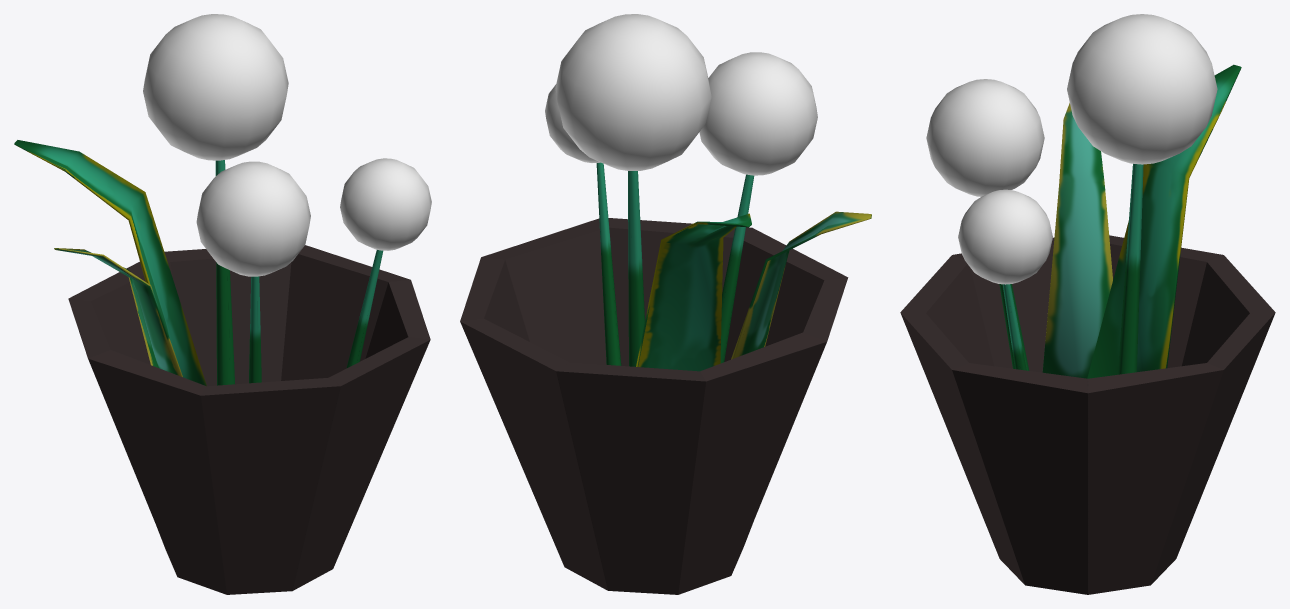
File: flowerpot.fbx
3 views of the same model, side by side, from view 1: azimuth 30°, elevation 25°; view 2: azimuth 150°, elevation 25°; view 3: azimuth 270°, elevation 25° (orthographic). The views are drawn at different scales.
Visible parts, largest first — view 1: Cube, Sphere.002, Sphere.003, Cube.003, Sphere.001, Cube.002, Cylinder, Cylinder.001, Cylinder.002; view 2: Cube, Sphere.002, Sphere.003, Cube.003, Cube.002, Cylinder, Cylinder.002, Cylinder.001, Sphere.001; view 3: Cube, Sphere.002, Cube.002, Cube.003, Sphere.003, Sphere.001, Cylinder, Cylinder.002, Cylinder.001.
Part boxes in pixels (x1,y1,x2,y2): Cube: (68,245,430,594); Sphere.002: (143,14,288,160); Sphere.003: (196,161,310,276); Cube.003: (14,140,206,386); Sphere.001: (340,158,431,250); Cube.002: (54,248,182,376); Cylinder: (215,160,234,385); Cylinder.001: (249,276,261,383); Cylinder.002: (346,250,383,368); Cube: (460,218,848,594); Sphere.002: (555,14,711,170); Sphere.003: (699,52,817,175); Cube.003: (636,213,751,371); Cube.002: (731,211,871,359); Cylinder: (628,171,644,366); Cylinder.002: (596,162,621,365); Cylinder.001: (720,174,754,363); Sphere.001: (545,84,600,162); Cube: (900,235,1275,594); Sphere.002: (1067,14,1217,164); Cube.002: (1042,103,1112,378); Cube.003: (1087,64,1241,378); Sphere.003: (926,79,1044,196); Sphere.001: (958,189,1052,284); Cylinder: (1117,164,1143,374); Cylinder.002: (1002,284,1026,370); Cylinder.001: (999,284,1029,370).
Size of the model in its own units: 313 by 434 by 276.
